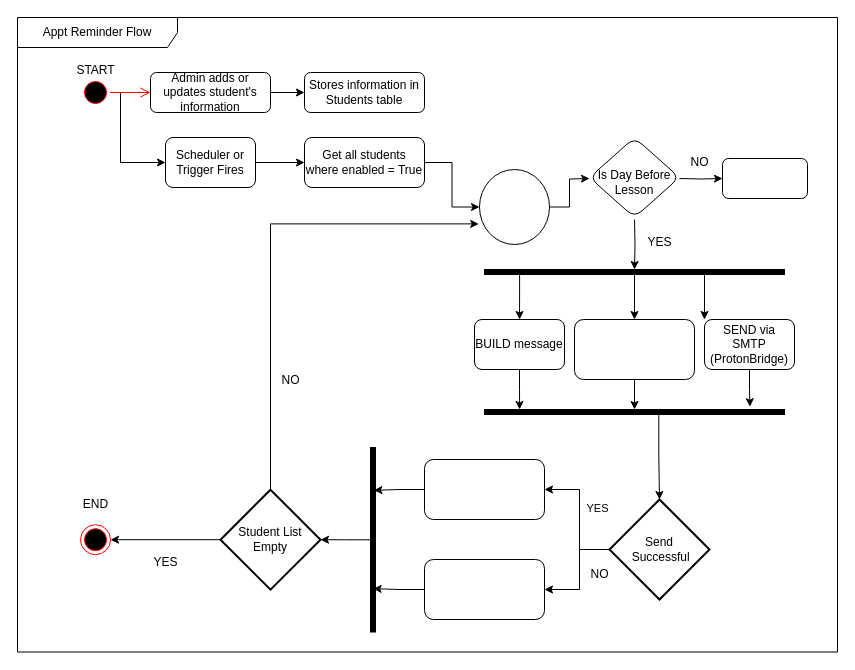
The diagram is 855 pixels wide and 670 high, and some of its shapes have lost their labels. The centre of each missing label's shape, as x and y in pixels:
Do Nothing: point (765, 178)
For Each Student: point (514, 206)
FORMAT as email-to-SMS/email/ph_call using phone number + carrier: point (634, 349)
STORE in Messages table w/ direction = "outgoing", status = "delivered": point (484, 489)
STORE in Messages table w/ direction = "outgoing", status = "failed": point (484, 589)
